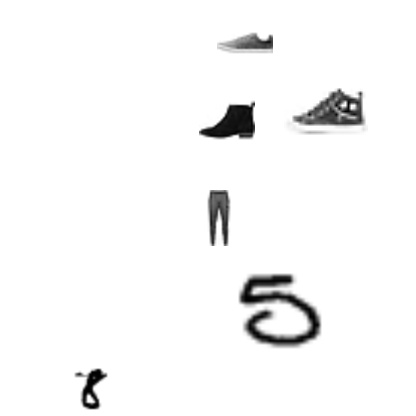5: (220, 251, 332, 363)
8: (63, 359, 119, 415)
Ankle_boot: (199, 91, 255, 147)
Sneaker: (284, 68, 368, 152), (217, 15, 273, 71)
Trouser: (190, 190, 246, 246)
